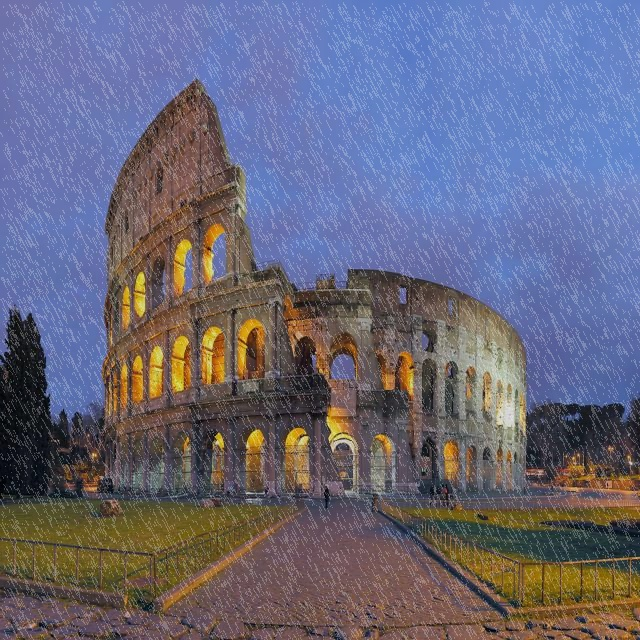pessoa: (322, 485, 330, 508), (441, 483, 447, 508), (428, 484, 434, 506), (232, 477, 239, 495), (444, 483, 449, 508), (434, 485, 440, 501)
